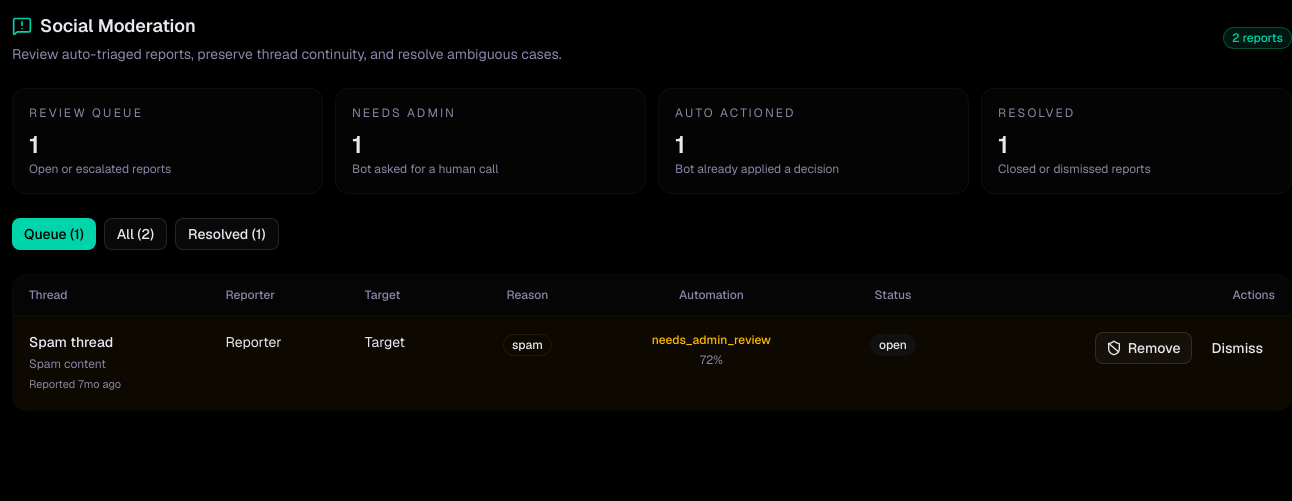
AdminSocialPage › filters queue and resolved reports
The width and height of the screenshot is (1292, 501).
Expected: the text "Spam thread" is shown, [29,333,113,351]
Expected: the text "resolved thread" is not shown
Click the button "Resolved (1)". click: (227, 234)
box: [175,218,279,250]
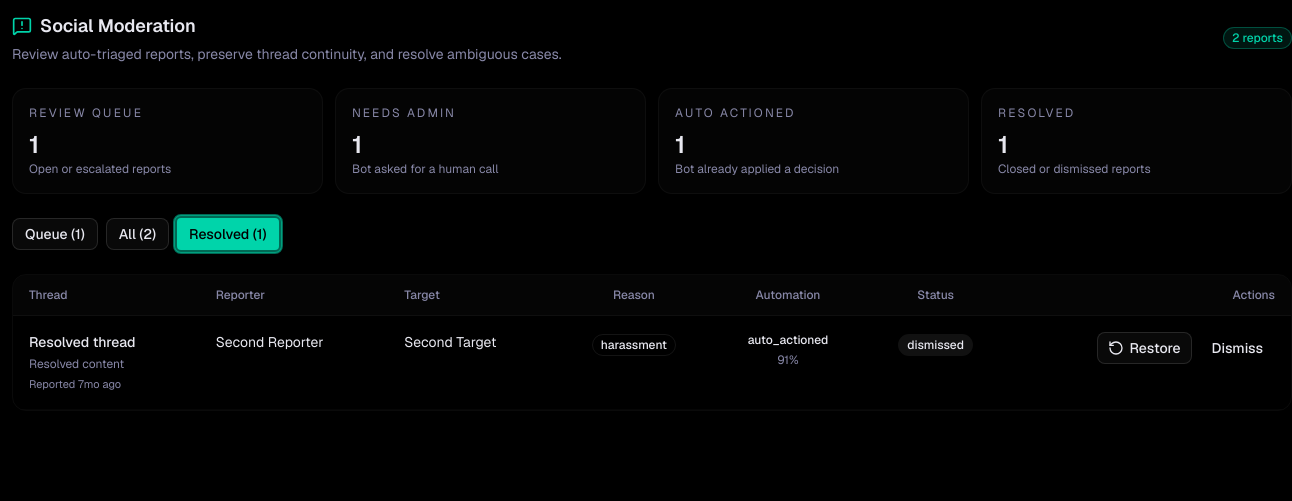
Expected: the text "Resolved thread" is shown, [29,333,136,351]
Expected: the text "Spam thread" is gone
Click the button "All (2)". click: (137, 234)
box: [106,218,169,250]
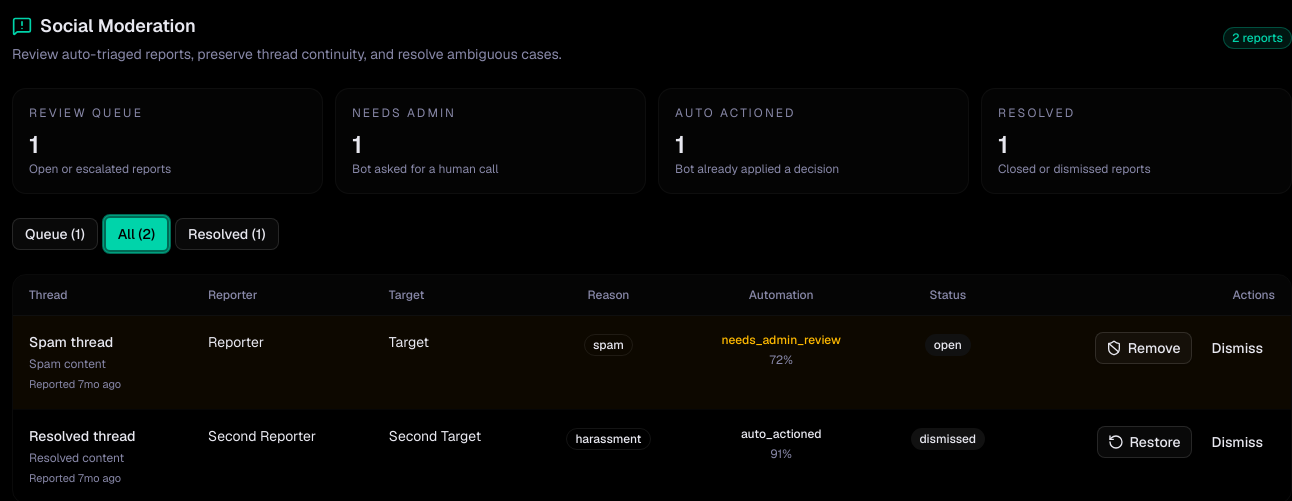
Expected: the text "Resolved thread" is shown, [29,426,136,444]
Expected: the text "Spam thread" is shown, [29,333,113,351]
